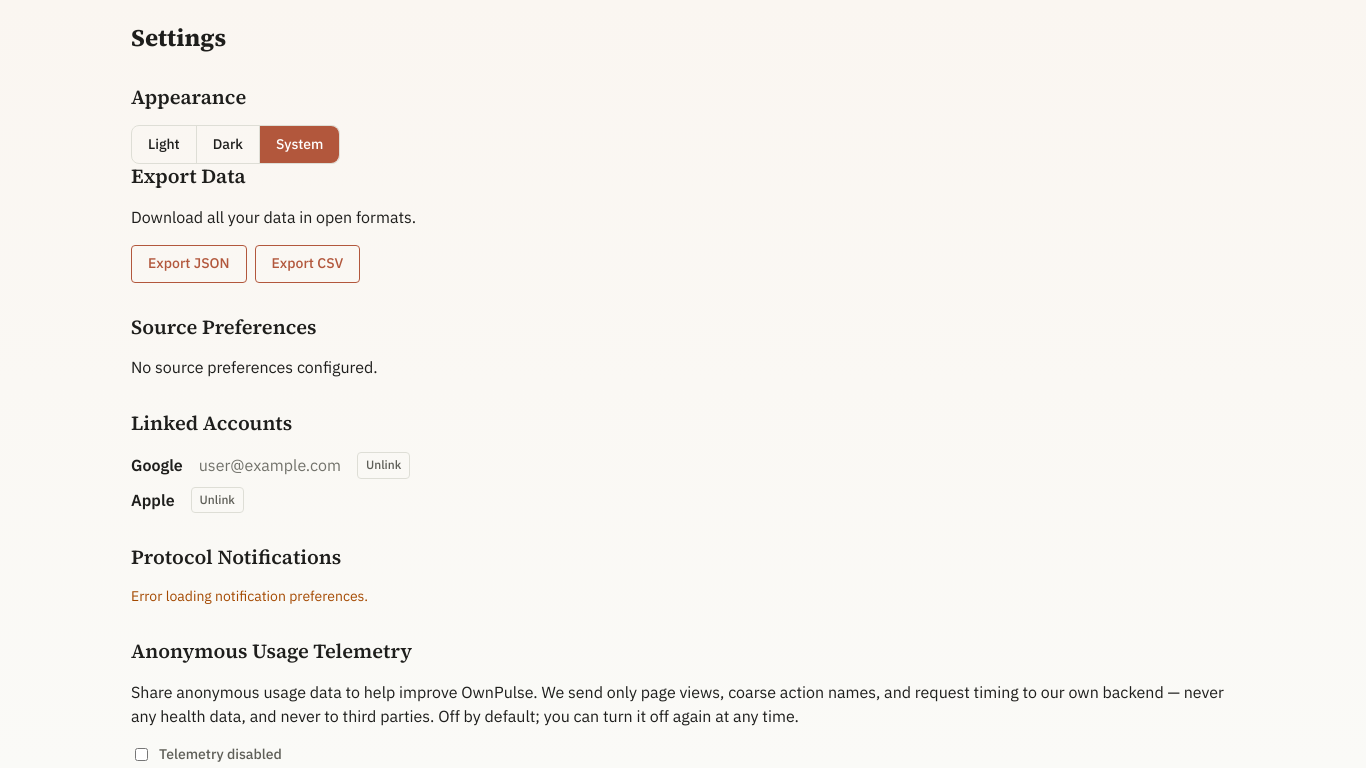
Settings — Linked Accounts › shows error message when unlink fails
Click the button with aria-label "unlink google". click: (384, 465)
box: [357, 452, 410, 479]
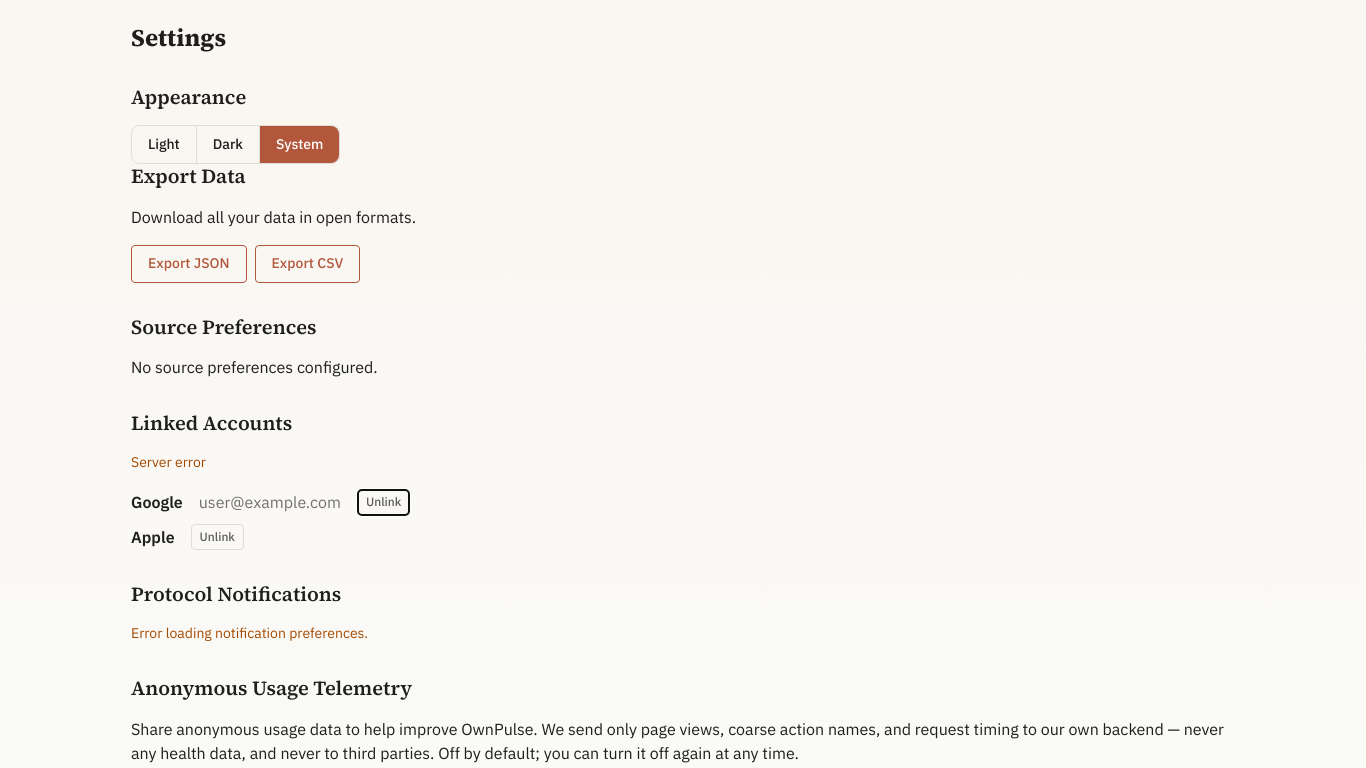
Check: the text "Server error" is shown, box [131, 453, 206, 471]
